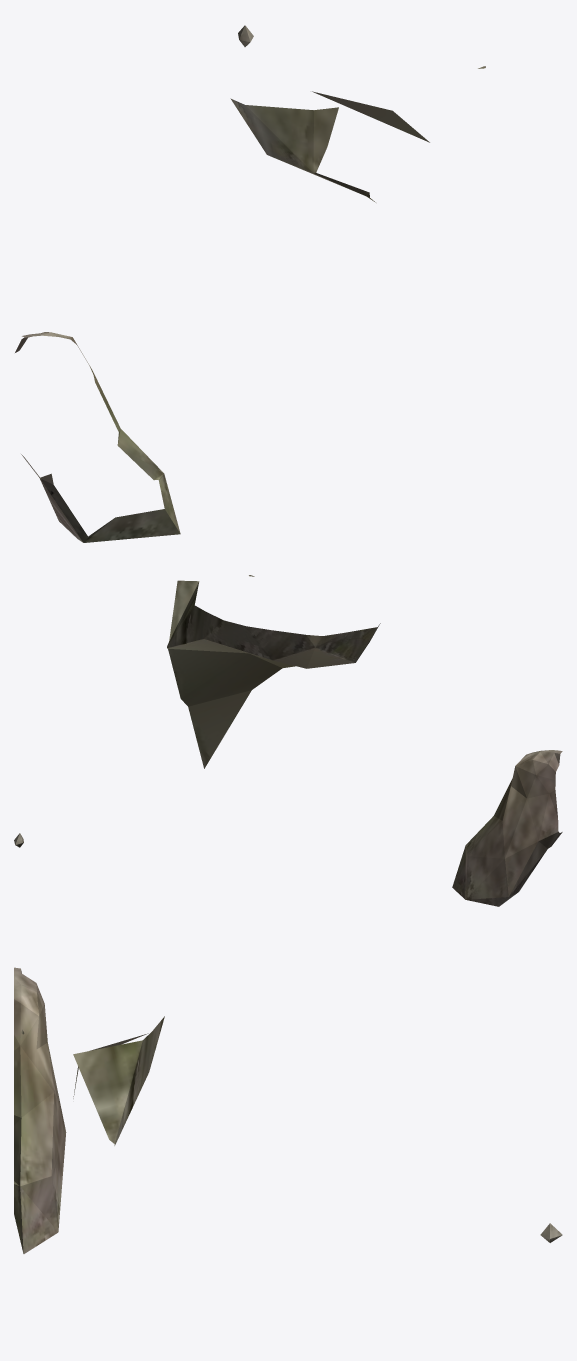
The picture shows the model from 3 angles, top to bottom: view 1: azimuth 30°, elevation 25°; view 2: azimuth 150°, elevation 25°; view 3: azimuth 270°, elevation 25°; orthographic projection. The views are drawn at different scales.
Bounding box in the file's own units: 2.95 × 2.14 × 2.89.
Materials: 1 (1 with a texture image).
